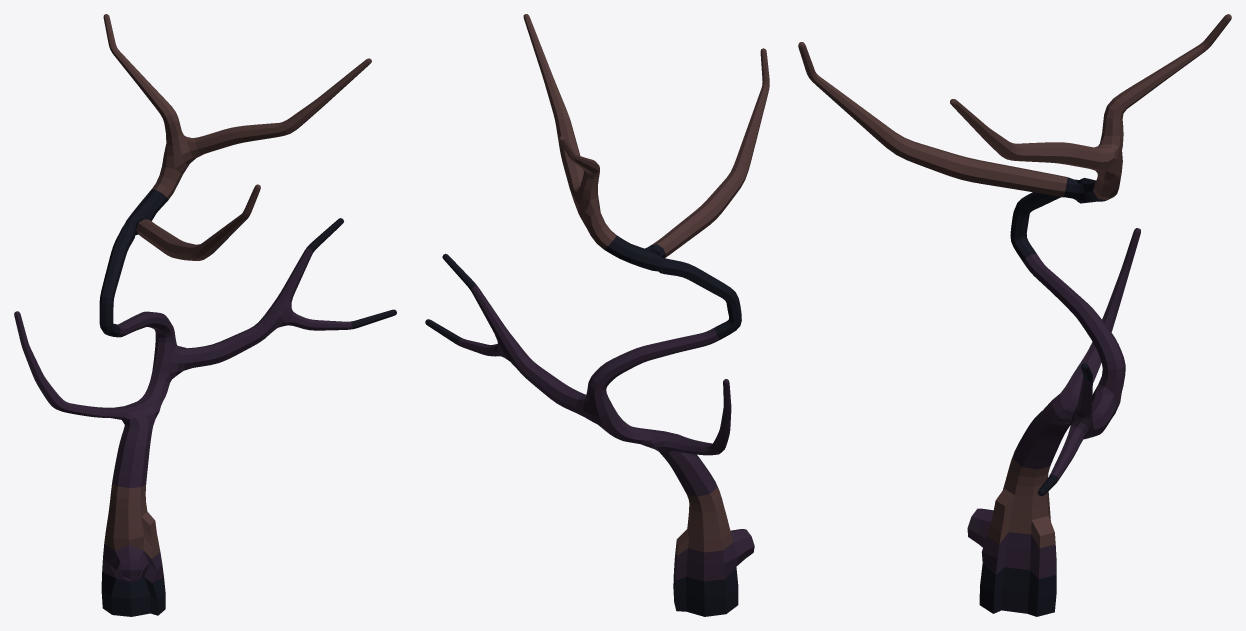
Rendered from arbol quemado.fbx.
3 renders of one model, left to right at view 1: azimuth 30°, elevation 25°; view 2: azimuth 150°, elevation 25°; view 3: azimuth 270°, elevation 25°, orthographic. The views are drawn at different scales.
Visible parts, largest first — view 1: Cube; view 2: Cube; view 3: Cube.
Part boxes in pixels (left/top/right/bottom): Cube: left=14, top=14, right=396, bottom=616; Cube: left=425, top=14, right=769, bottom=616; Cube: left=798, top=14, right=1231, bottom=616.
Bounding box in the file's own units: 1026 × 1487 × 932.
